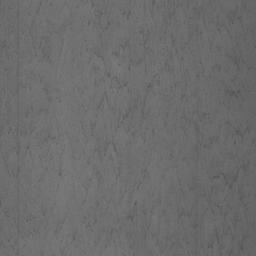Silk spot: (0, 0, 256, 256), (169, 177, 197, 196), (161, 150, 186, 170)
